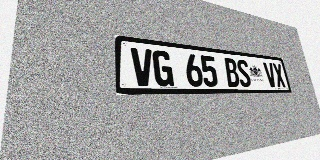5: (200, 55, 219, 87)
6: (184, 53, 204, 87)
B: (223, 58, 241, 87)
G: (152, 50, 174, 86)
S: (236, 59, 252, 87)
V: (131, 47, 154, 86), (263, 62, 278, 87)
X: (272, 63, 286, 87)
